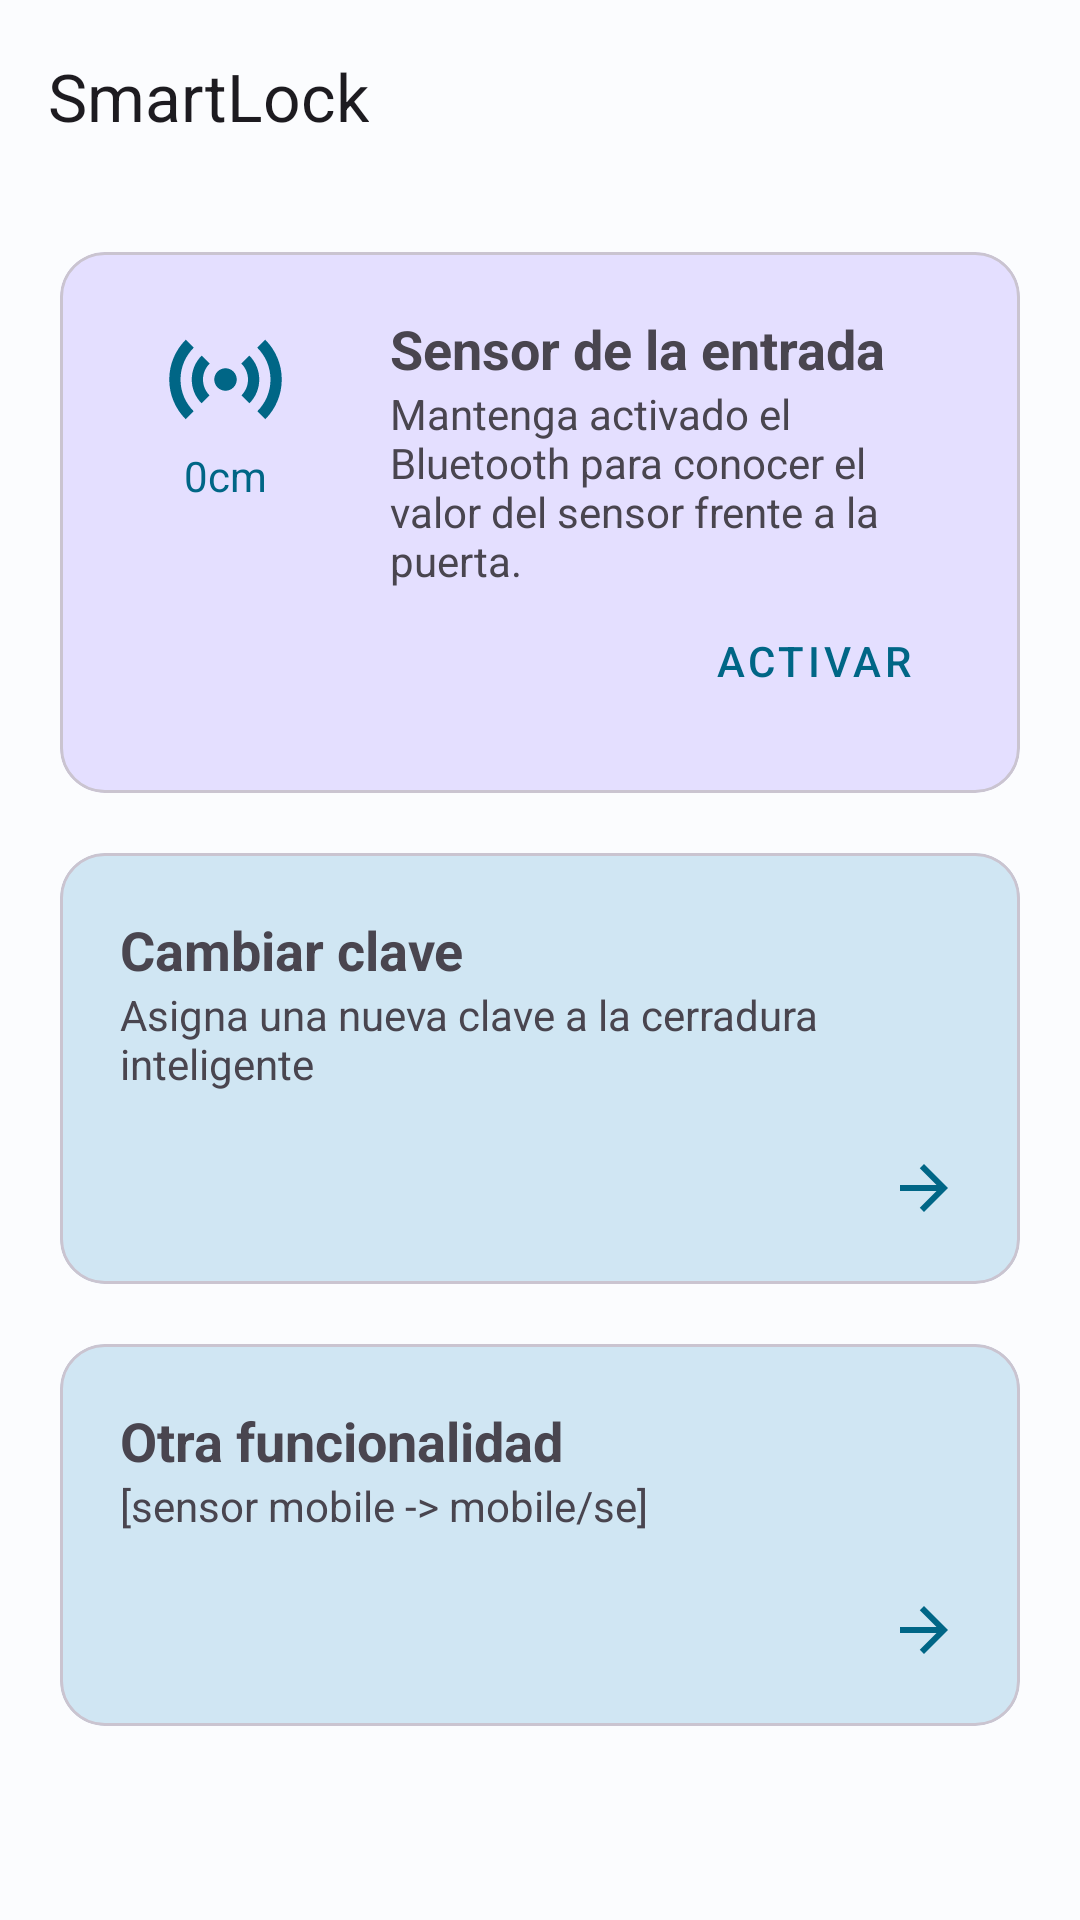

Where icons sit on this 1080px x 1920px app screen, as bbox=[x1, y1, x2, y2]:
next: bbox=[900, 1164, 948, 1212], bbox=[900, 1606, 948, 1654]
sensor on: bbox=[169, 339, 282, 419]
